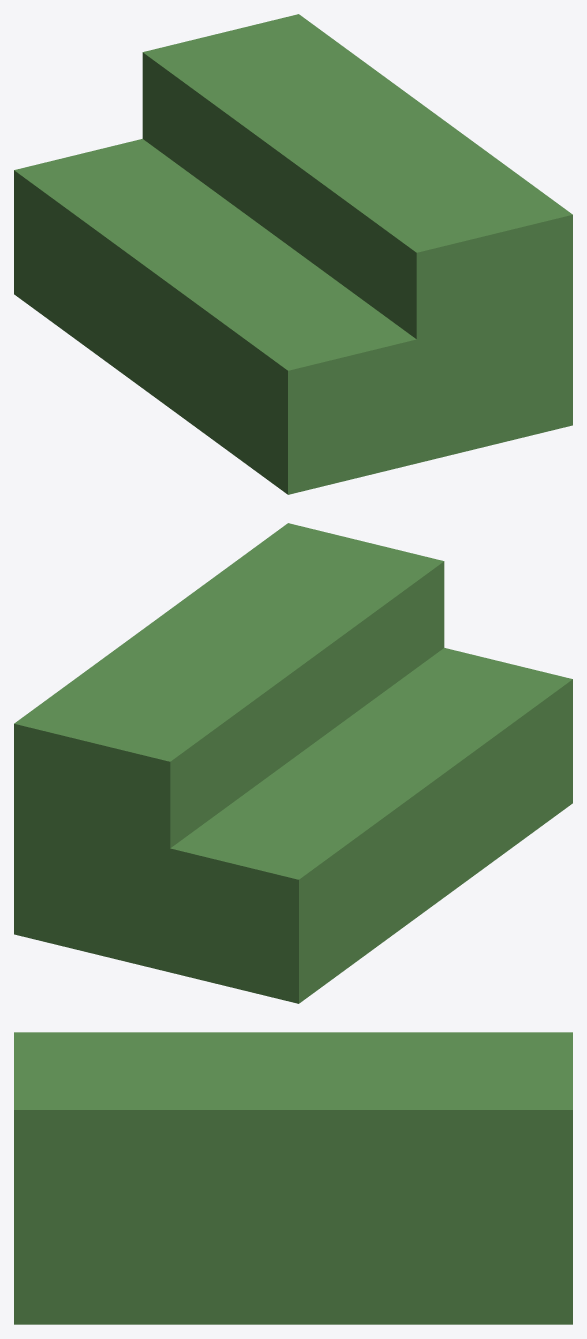
The model's file is HighJumpPlatform.fbx.
3 views of the same model, one above another, from view 1: azimuth 30°, elevation 25°; view 2: azimuth 150°, elevation 25°; view 3: azimuth 270°, elevation 25° (orthographic).
Visible parts, largest first — view 1: HighJumpPlatform; view 2: HighJumpPlatform; view 3: HighJumpPlatform.
Boxes of the visible parts, x1,y1,x2,y2 form: HighJumpPlatform: [14, 14, 572, 494]; HighJumpPlatform: [14, 523, 572, 1003]; HighJumpPlatform: [14, 1032, 572, 1324].
Size of the model in its own units: 6 by 4.24 by 10.
